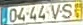0: (8, 7, 17, 23)
4: (37, 5, 46, 20), (28, 5, 37, 20), (17, 7, 26, 21)
S: (61, 2, 73, 19)
V: (49, 4, 61, 20)
